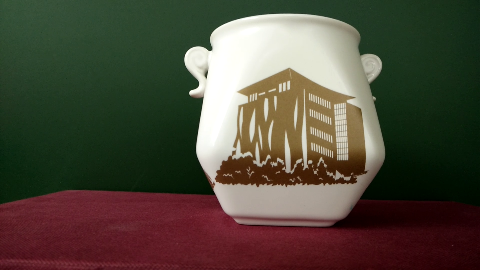library: (219, 73, 363, 182)
